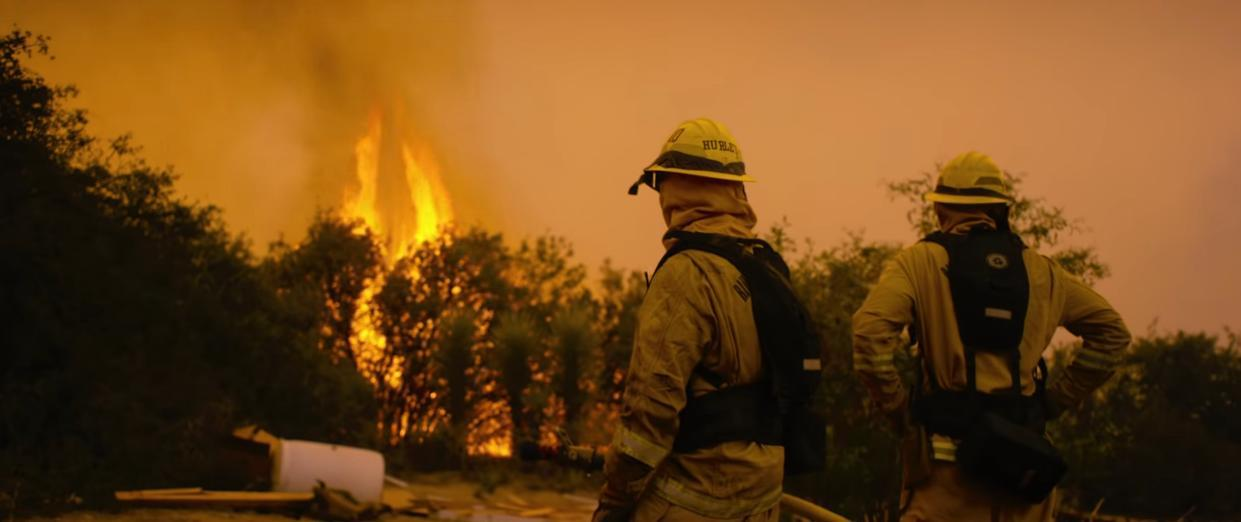fire: (313, 91, 530, 464)
